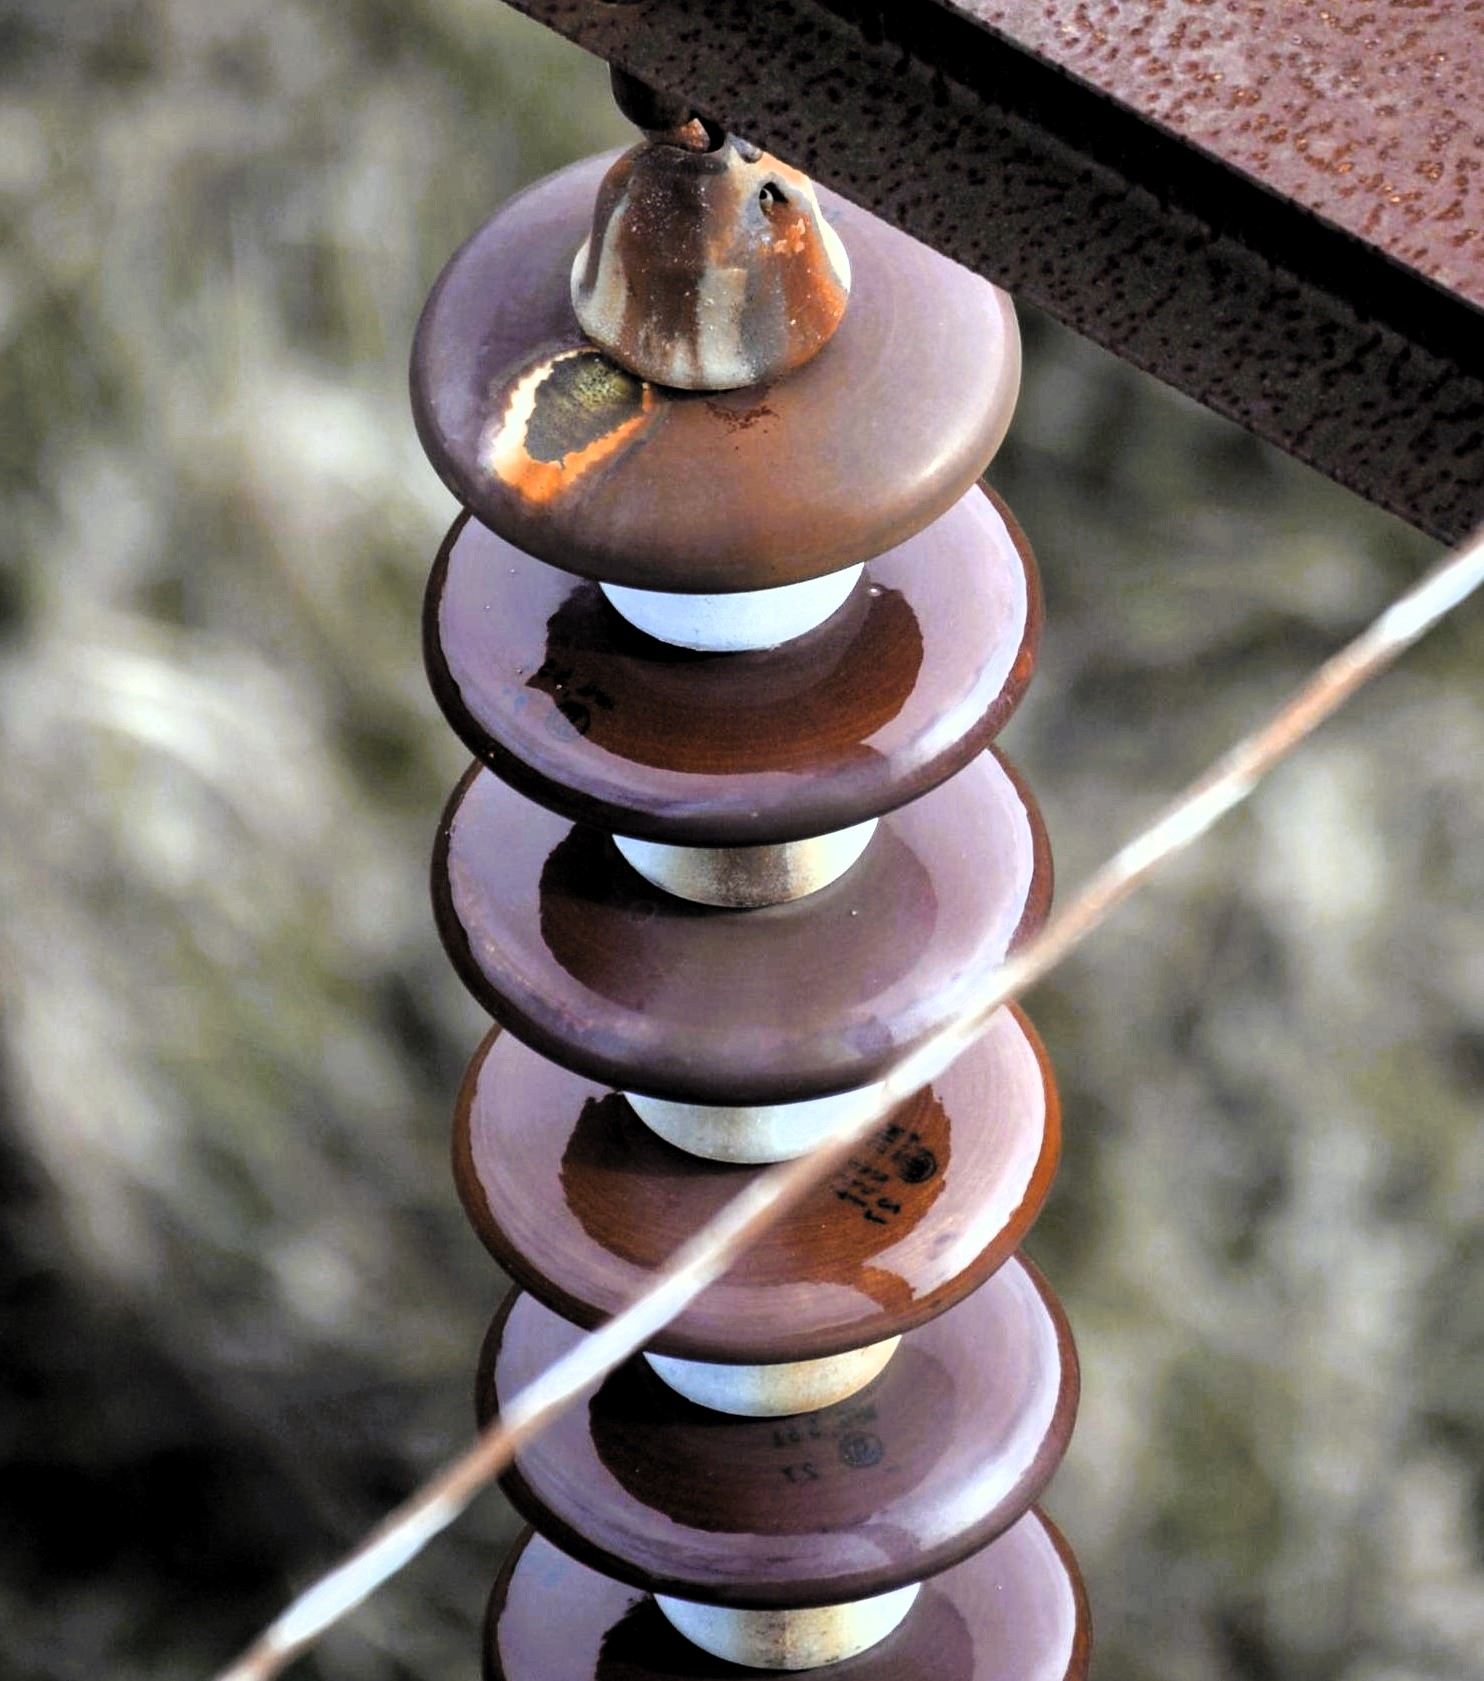Insulator flashover: (392, 130, 1028, 597)
